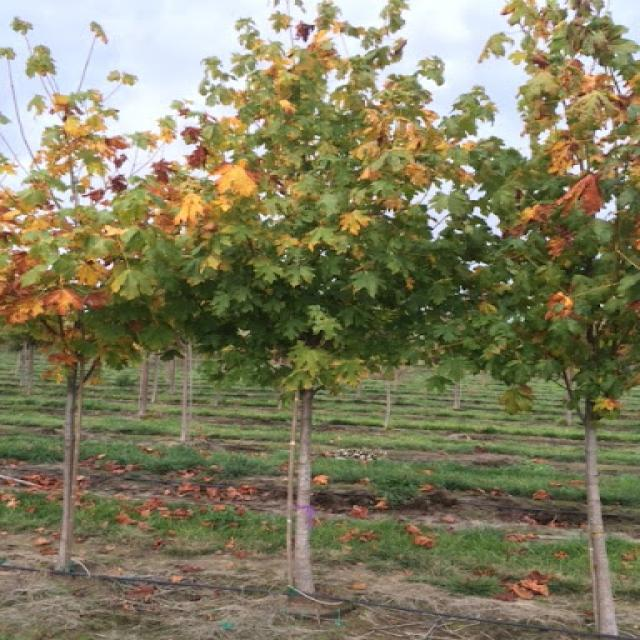Acer macrophyllum: (118, 17, 470, 584), (396, 0, 640, 635), (0, 11, 206, 606)
